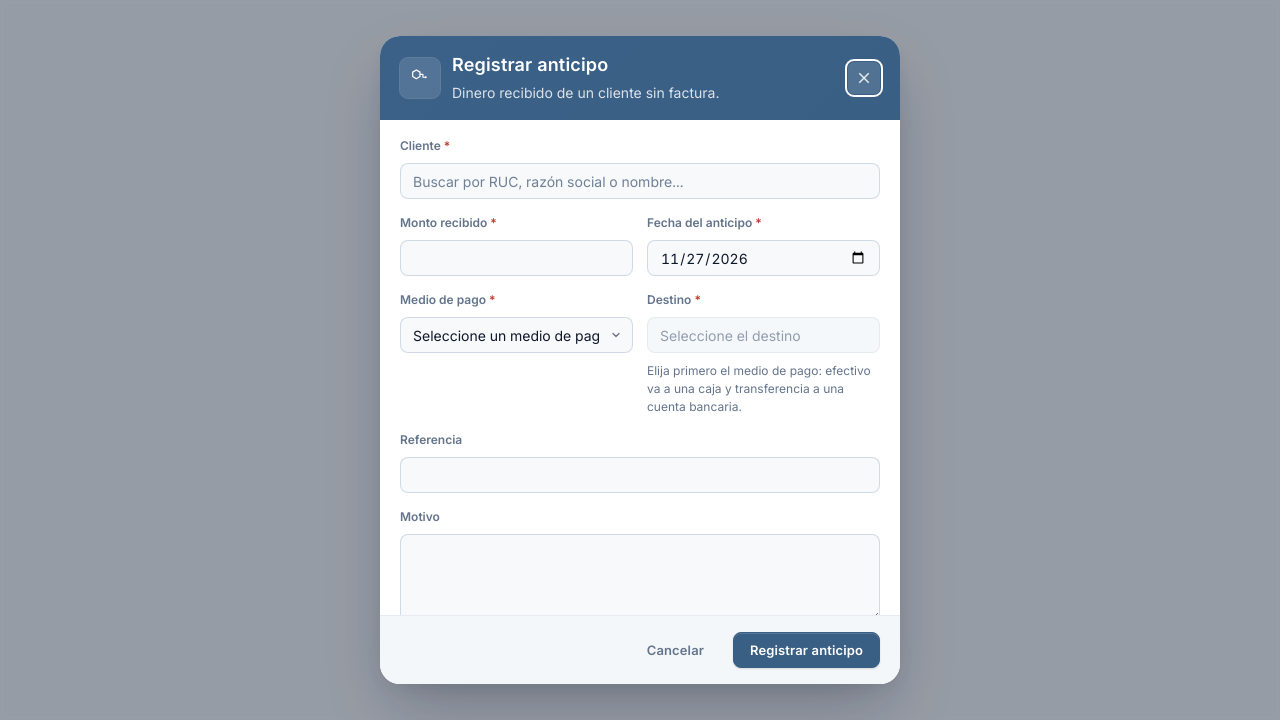
Registro — cada recurso exige solo su permiso › un 403 del servidor se explica igual y un fallo distinto se informa como error
Select "Transferencia" in the dropdown labelled "Medio de pago*" at coordinates (516, 335), box [400, 317, 633, 353]
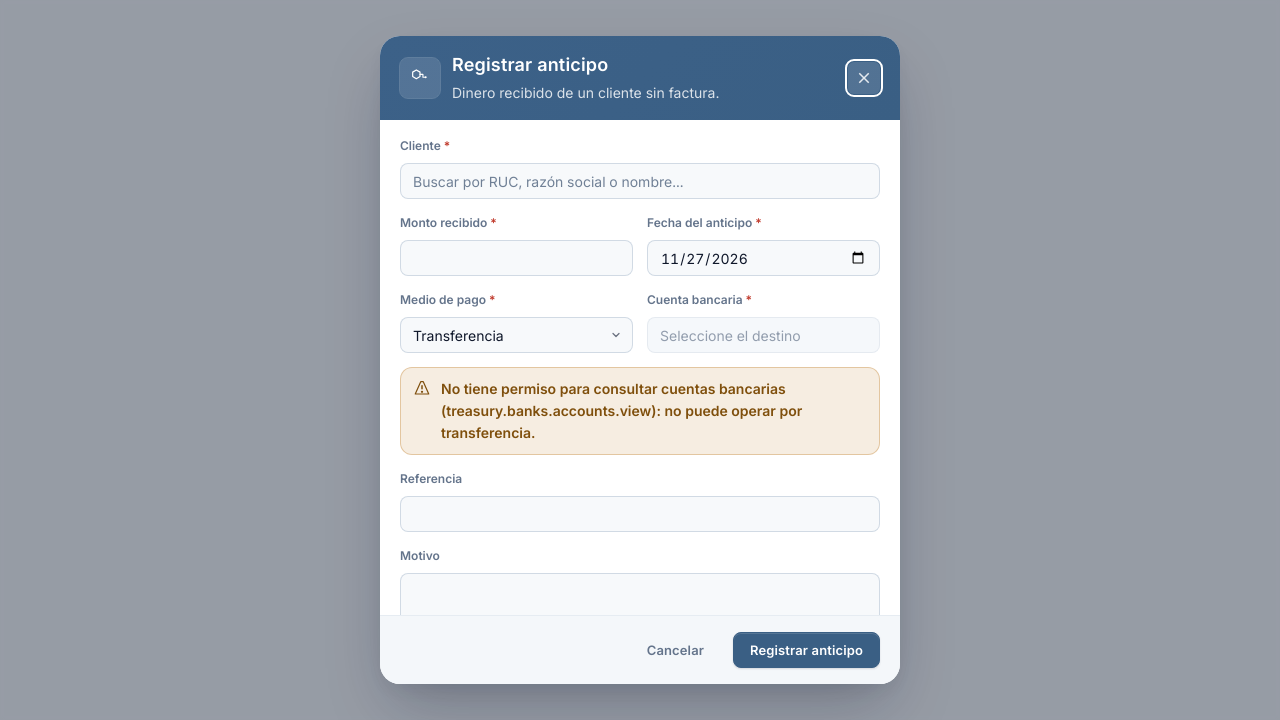
Expected: the text "No tiene permiso para consultar cuentas" is shown, [441, 380, 802, 441]
Select "Efectivo" in the dropdown labelled "Medio de pago*" at coordinates (516, 335), box [400, 317, 633, 353]
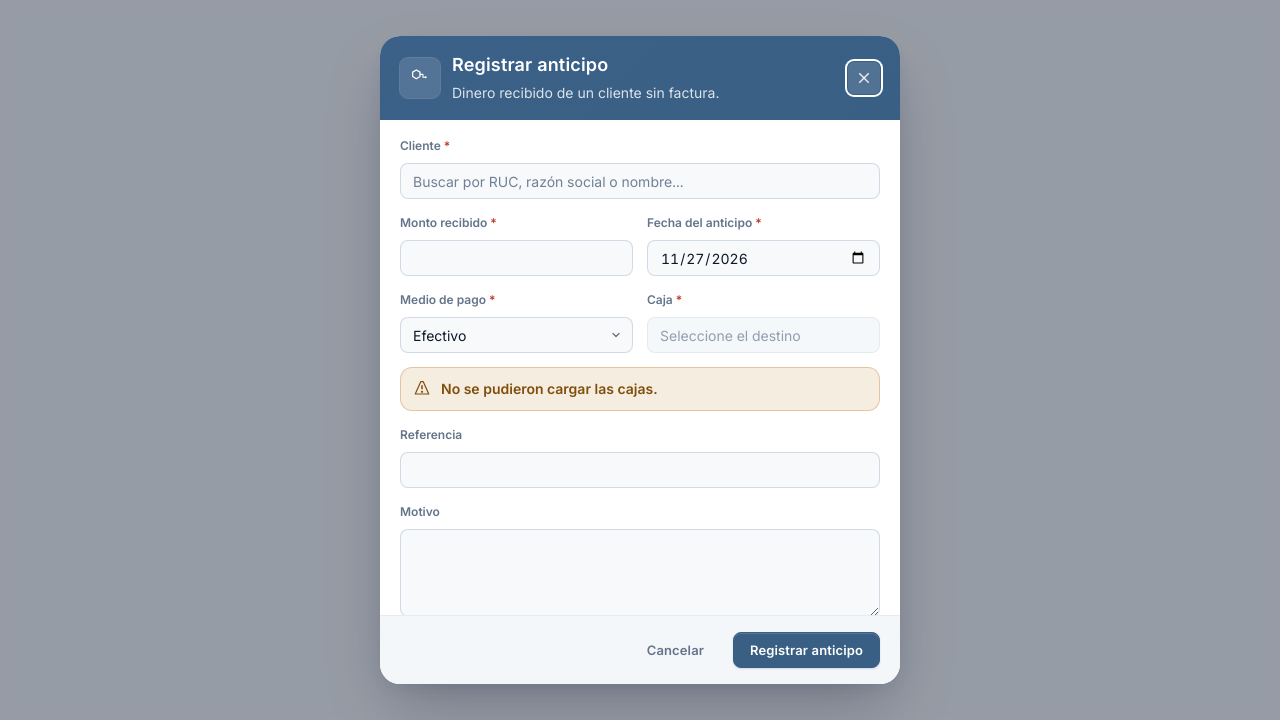
Expected: the text "No se pudieron cargar las cajas." is shown, [441, 378, 658, 400]
